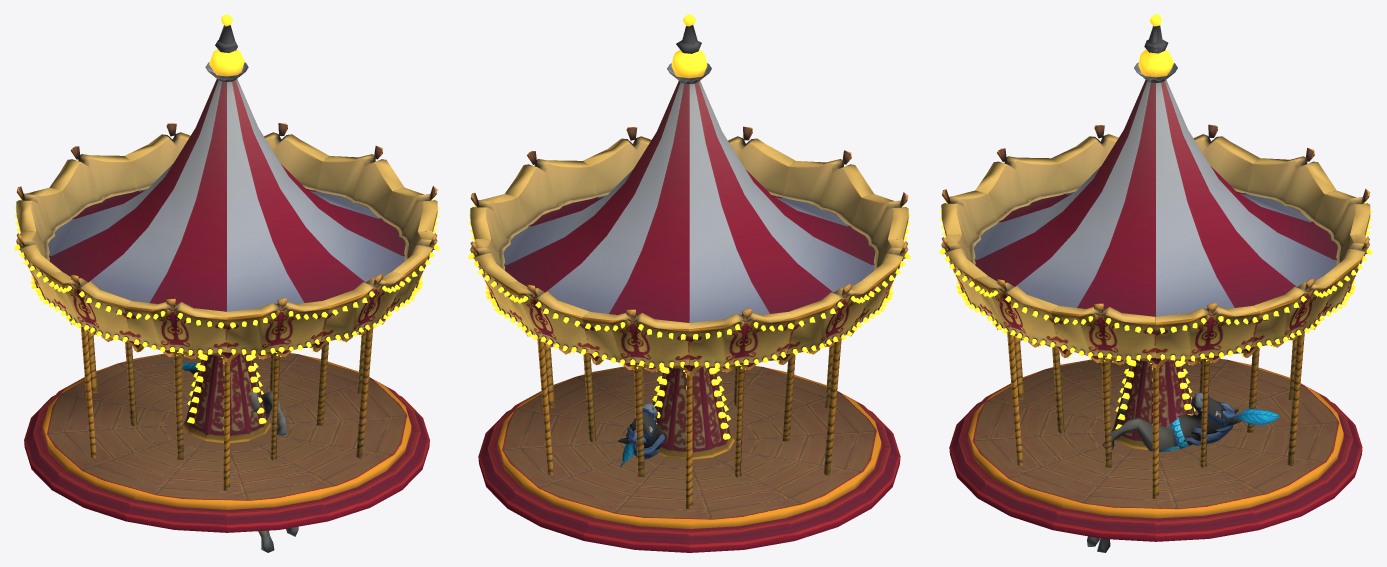
The model's file is carousel.glb.
The picture shows the model from 3 angles, left to right: view 1: azimuth 30°, elevation 25°; view 2: azimuth 150°, elevation 25°; view 3: azimuth 270°, elevation 25°; orthographic projection. The views are drawn at different scales.
Parts seen in each view (by area): view 1: spin, base, horse_black; view 2: spin, base, horse_black; view 3: spin, base, horse_black.
Part boxes in pixels (x1,y1,x2,y2): spin: [14, 14, 439, 509]; base: [24, 377, 429, 532]; horse_black: [171, 360, 298, 552]; spin: [468, 14, 910, 528]; base: [478, 391, 900, 552]; horse_black: [617, 395, 665, 467]; spin: [939, 14, 1372, 518]; base: [949, 383, 1362, 541]; horse_black: [1087, 393, 1279, 552].
Bounding box in the file's own units: 9.42 × 12.71 × 9.42.
Materials: 3 (3 with a texture image).
